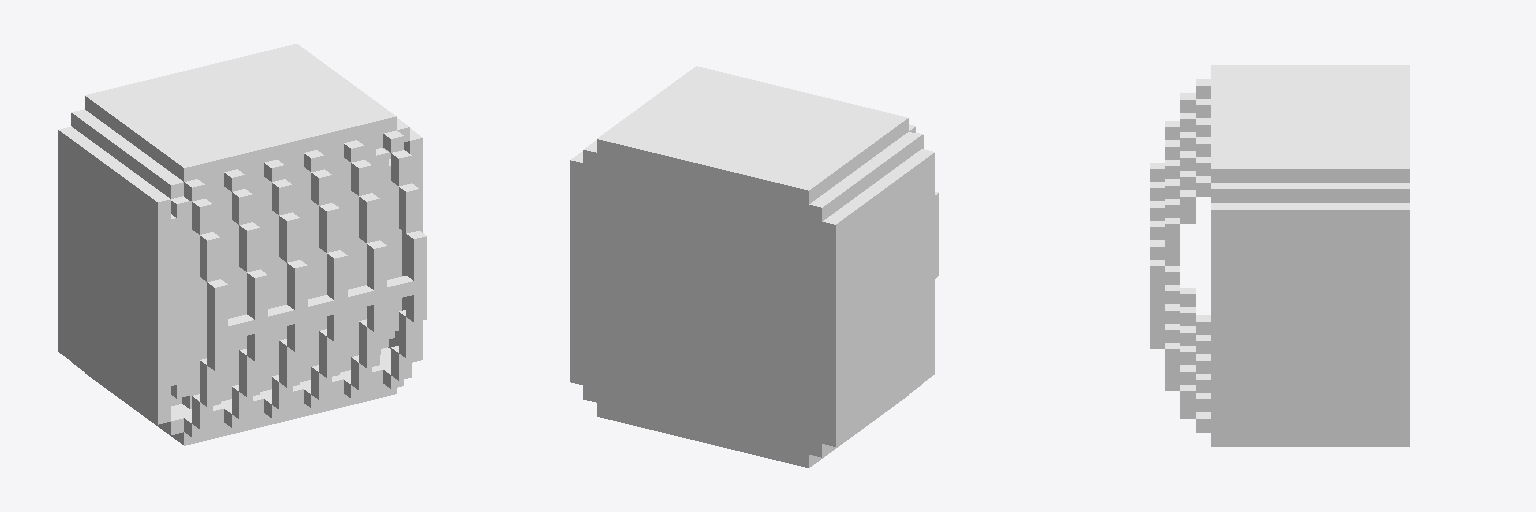
Rendered from floodlamp.obj.
3 renders of one model, left to right at view 1: azimuth 30°, elevation 25°; view 2: azimuth 150°, elevation 25°; view 3: azimuth 270°, elevation 25°, orthographic.
Visible parts, largest first — view 1: floodlamp; view 2: floodlamp; view 3: floodlamp.
Boxes of the visible parts, box(x1,y1,x2,y2) form: floodlamp: box(58, 44, 426, 445); floodlamp: box(570, 66, 938, 467); floodlamp: box(1150, 65, 1409, 446).
Size of the model in its own units: 20 by 20 by 17.